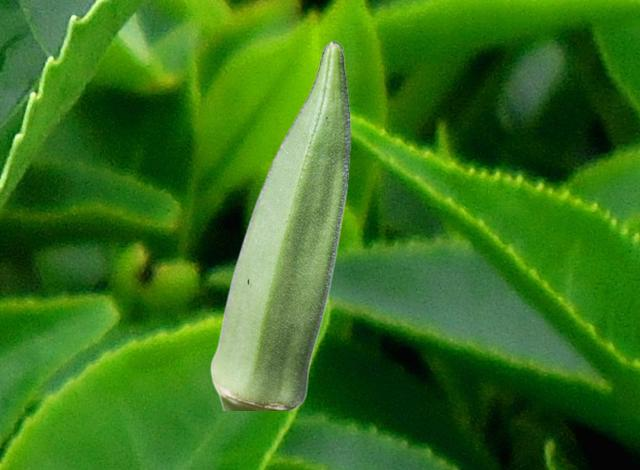okra: (210, 40, 350, 409)
